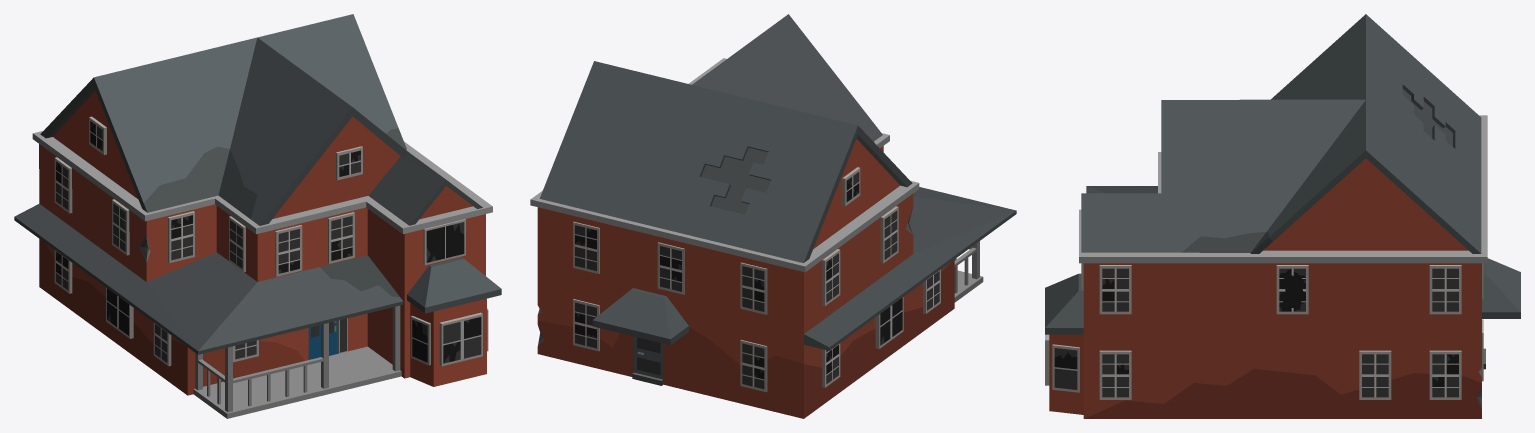
Rendered from SA_Bld_HouseLarge_Damaged_01.gltf.
3 views of the same model, side by side, from view 1: azimuth 30°, elevation 25°; view 2: azimuth 150°, elevation 25°; view 3: azimuth 270°, elevation 25° (orthographic). The views are drawn at different scales.
Parts seen in each view (by area): view 1: SA_Bld_HouseLarge_Damaged_01; view 2: SA_Bld_HouseLarge_Damaged_01; view 3: SA_Bld_HouseLarge_Damaged_01.
Part boxes in pixels (x1,y1,x2,y2): SA_Bld_HouseLarge_Damaged_01: [14, 14, 501, 418]; SA_Bld_HouseLarge_Damaged_01: [530, 14, 1016, 418]; SA_Bld_HouseLarge_Damaged_01: [1045, 14, 1520, 418].
Size of the model in its own units: 19.56 by 15.98 by 25.71.
Materials: 1 (1 with a texture image).
